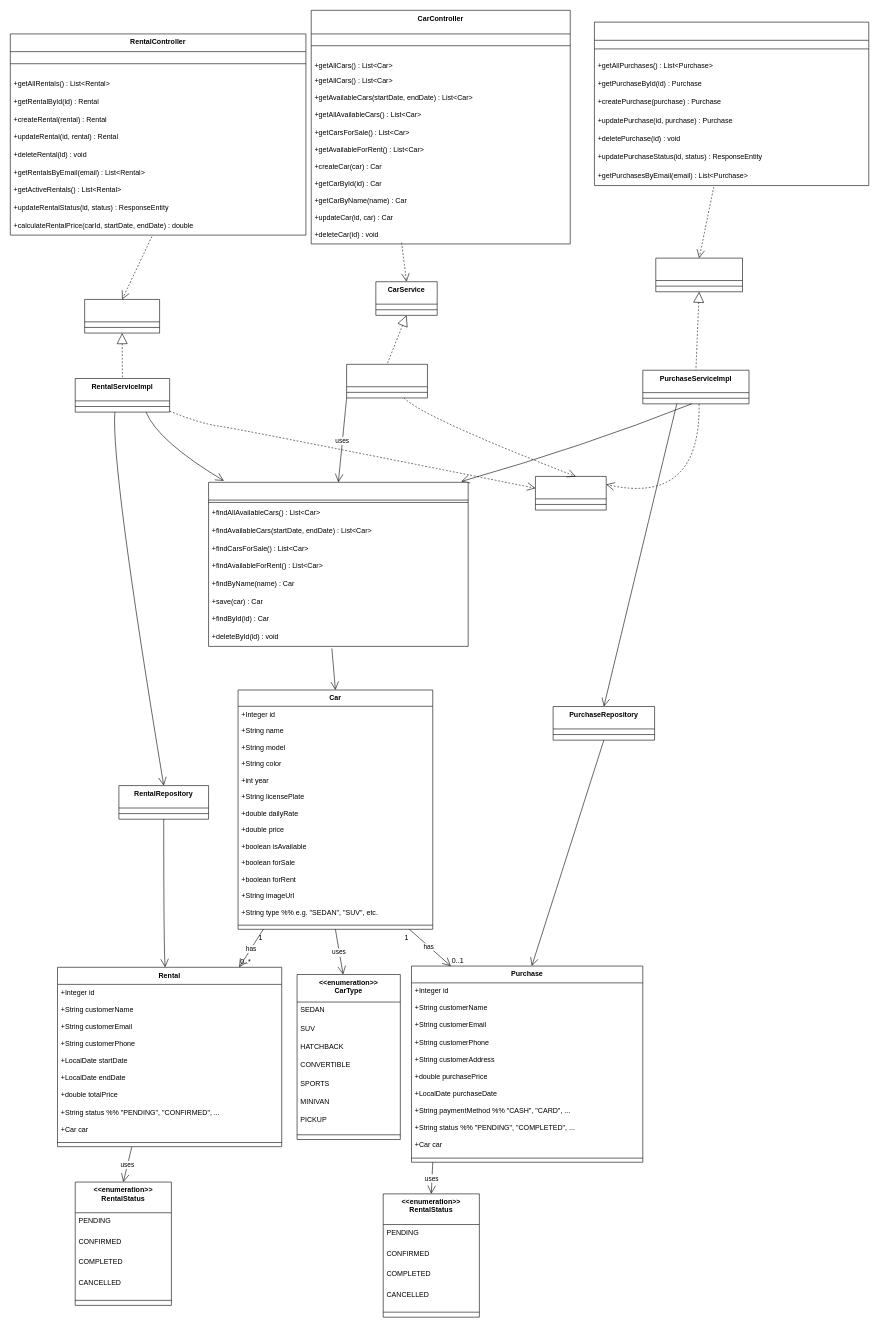
Image size: 879x1328. Some labels were removed from this diagram. The box of each missing label's shape, as (x1, y1, x2, y2) in pixels:
CarRepository: (208, 482, 468, 646)
CarServiceImpl: (346, 364, 427, 398)
EmailService: (535, 476, 606, 510)
PurchaseController: (594, 22, 869, 186)
PurchaseService: (655, 258, 743, 292)
RentalService: (84, 299, 160, 333)
